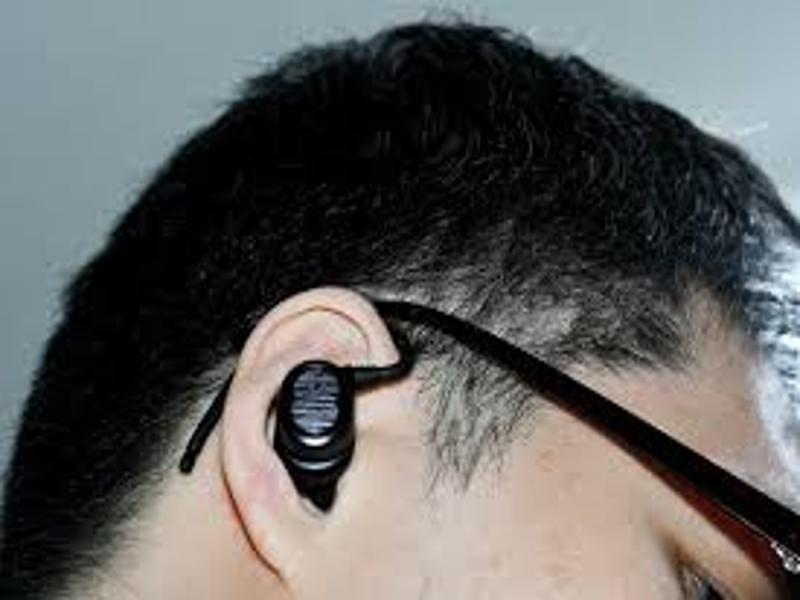headphone: (281, 352, 357, 506)
